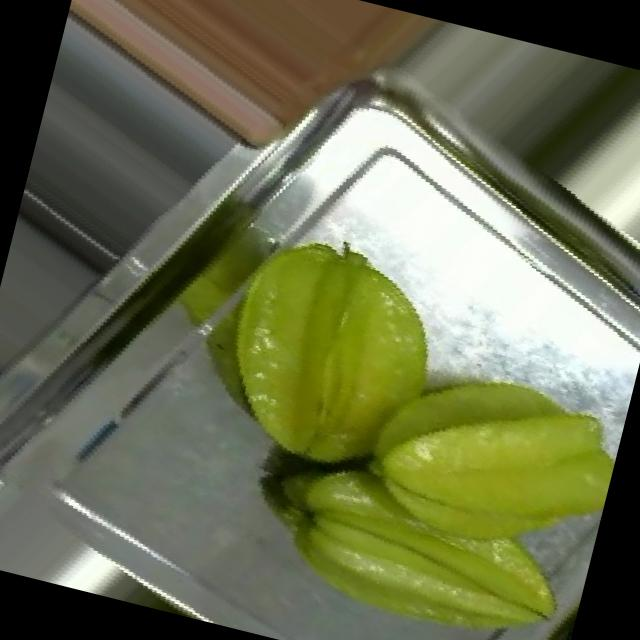fruit: (238, 276, 640, 640), (130, 181, 492, 541), (42, 0, 430, 206)
